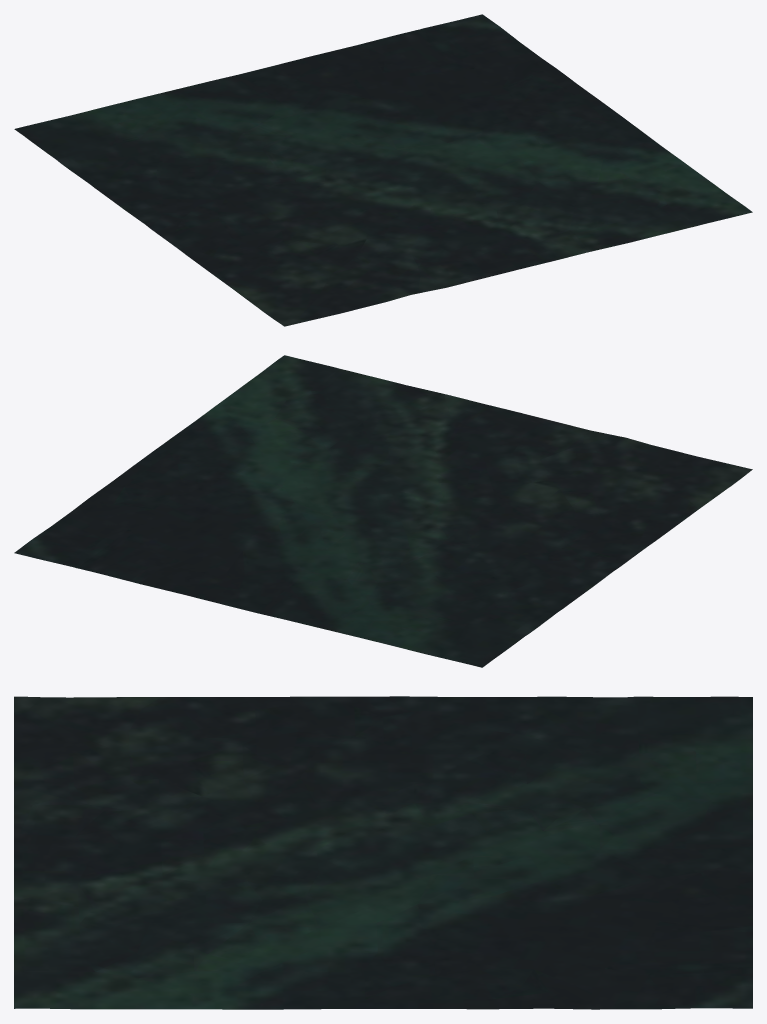
3 renders of one model, top to bottom at view 1: azimuth 30°, elevation 25°; view 2: azimuth 150°, elevation 25°; view 3: azimuth 270°, elevation 25°, orthographic. The views are drawn at different scales.
Bounding box in the file's own units: 52.22 × 0.2524 × 52.22.
3 materials, 3 textured.
